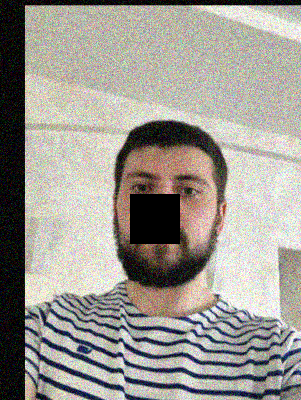without_mask: (112, 164, 211, 291)
